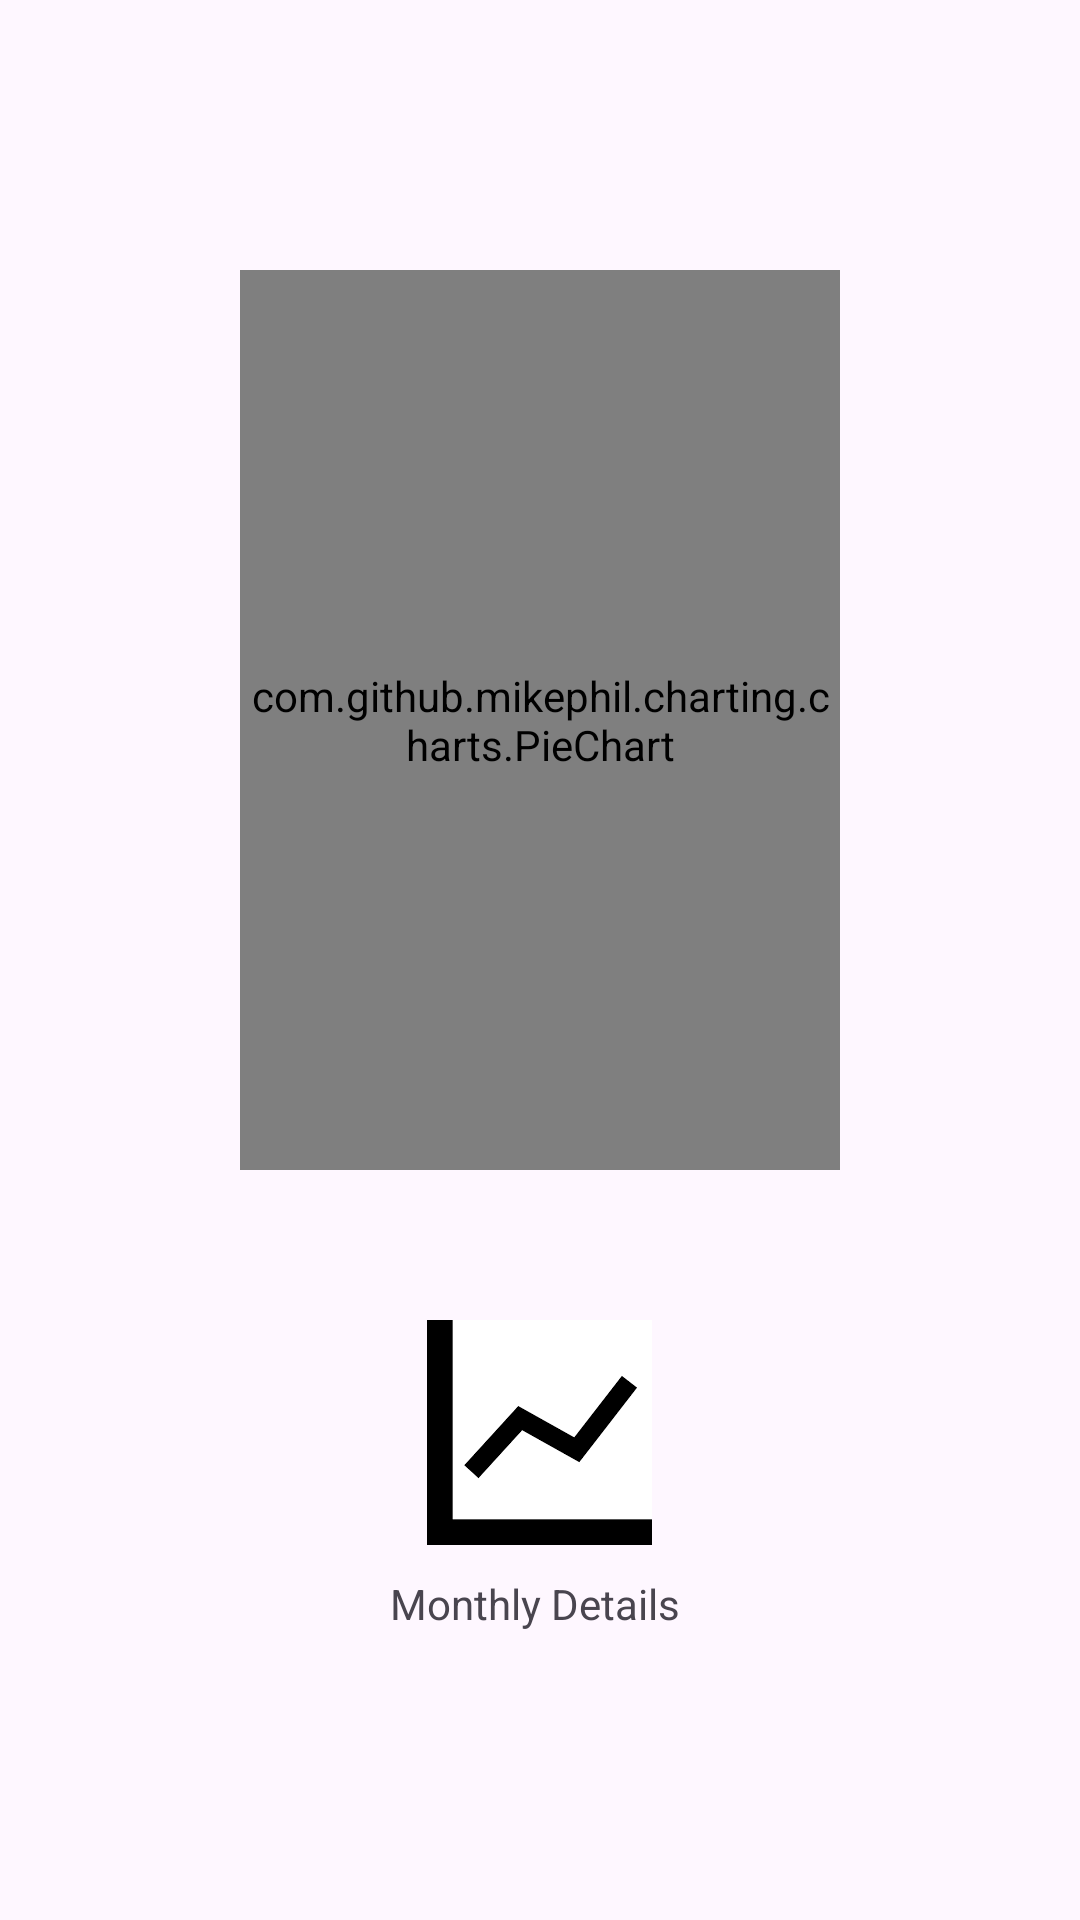

Icons on this 1080 × 1920 Android screen, each with its box as detection(x1, y1, x2, y2):
line chart: detection(427, 1320, 652, 1545)
